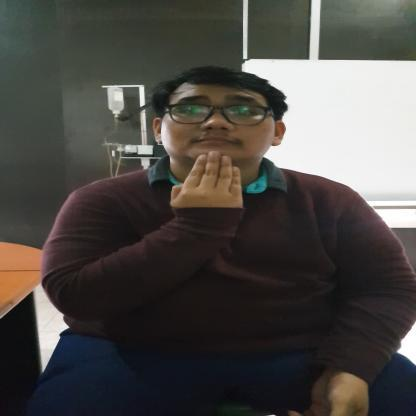Selamat-Terimakasih: (165, 148, 255, 224)
